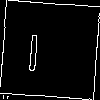I: (25, 24, 42, 71)
